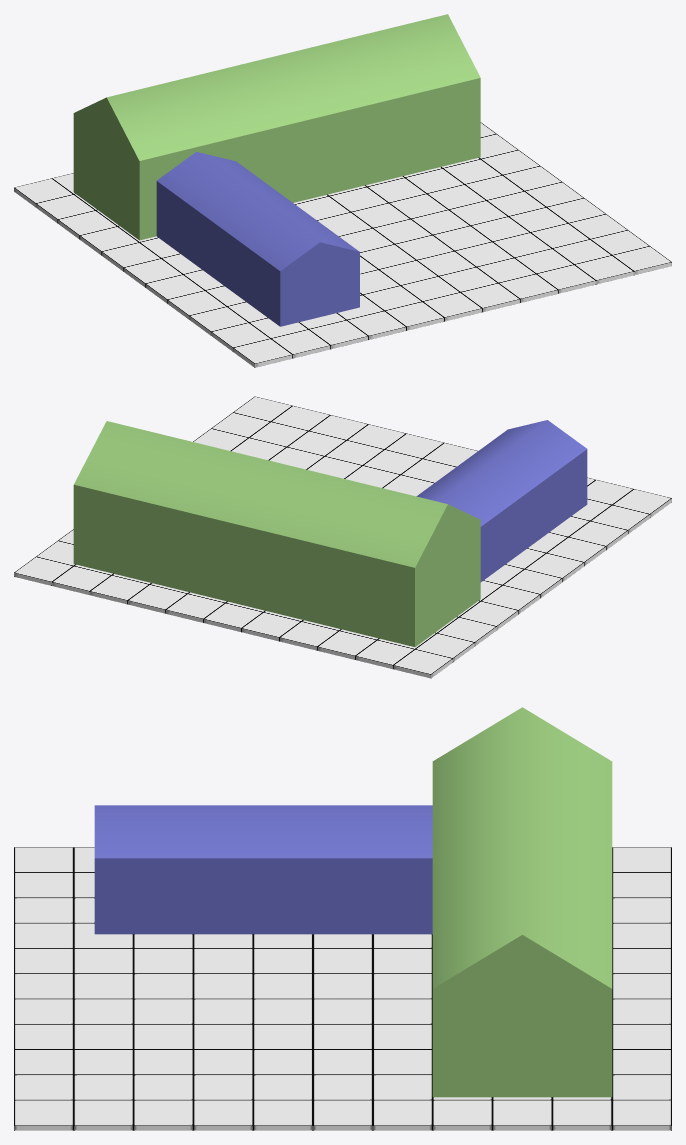
The model's file is XG_Large-house.glb.
3 views of the same model, one above another, from view 1: azimuth 30°, elevation 25°; view 2: azimuth 150°, elevation 25°; view 3: azimuth 270°, elevation 25° (orthographic). The views are drawn at different scales.
Visible parts, largest first — view 1: building_9m_3m_004, building_9m_3m_003, 1m_base_block_2448, 1m_base_block_2443, 1m_base_block_2441, 1m_base_block_2442, 1m_base_block_2444, 1m_base_block_2447, 1m_base_block_2445, 1m_base_block_2446, 1m_base_block_2449, 1m_base_block_2450 (+51 smaller); view 2: building_9m_3m_004, building_9m_3m_003, 1m_base_block_2364, 1m_base_block_2362, 1m_base_block_2357, 1m_base_block_2360, 1m_base_block_2361, 1m_base_block_2363, 1m_base_block_2358, 1m_base_block_2359, 1m_base_block_2365, 1m_base_block_2429 (+36 smaller); view 3: building_9m_3m_004, building_9m_3m_003, 1m_base_block_2421, 1m_base_block_2422, 1m_base_block_2426, 1m_base_block_2427, 1m_base_block_2428, 1m_base_block_2440, 1m_base_block_2423, 1m_base_block_2424, 1m_base_block_2425, 1m_base_block_2429 (+63 smaller).
Part boxes in pixels (x1,y1,x2,y2): building_9m_3m_004: (73,14,480,240); building_9m_3m_003: (156,152,359,326); 1m_base_block_2448: (233,338,292,367); 1m_base_block_2443: (385,301,444,330); 1m_base_block_2441: (461,283,520,312); 1m_base_block_2442: (423,292,482,321); 1m_base_block_2444: (347,311,406,339); 1m_base_block_2447: (271,329,330,358); 1m_base_block_2445: (309,320,368,349); 1m_base_block_2446: (498,274,558,302); 1m_base_block_2449: (536,264,595,293); 1m_base_block_2450: (574,255,633,284); building_9m_3m_004: (73,421,480,646); building_9m_3m_003: (416,420,587,582); 1m_base_block_2364: (393,649,452,678); 1m_base_block_2362: (127,584,186,613); 1m_base_block_2357: (165,593,224,622); 1m_base_block_2360: (279,621,338,650); 1m_base_block_2361: (317,631,376,659); 1m_base_block_2363: (355,640,414,668); 1m_base_block_2358: (203,603,262,632); 1m_base_block_2359: (241,612,300,641); 1m_base_block_2365: (90,575,149,604); 1m_base_block_2429: (14,557,73,585); building_9m_3m_004: (432,707,612,1097); building_9m_3m_003: (94,805,432,934); 1m_base_block_2421: (492,1100,552,1130); 1m_base_block_2422: (432,1100,492,1130); 1m_base_block_2426: (552,1100,612,1130); 1m_base_block_2427: (193,1100,253,1130); 1m_base_block_2428: (133,1100,193,1130); 1m_base_block_2440: (73,1100,133,1130); 1m_base_block_2423: (373,1100,432,1130); 1m_base_block_2424: (313,1100,372,1130); 1m_base_block_2425: (253,1100,312,1130); 1m_base_block_2429: (612,1100,671,1130).
Bounding box in the file's own units: 11 × 3.15 × 11.
3 materials, 1 textured.
